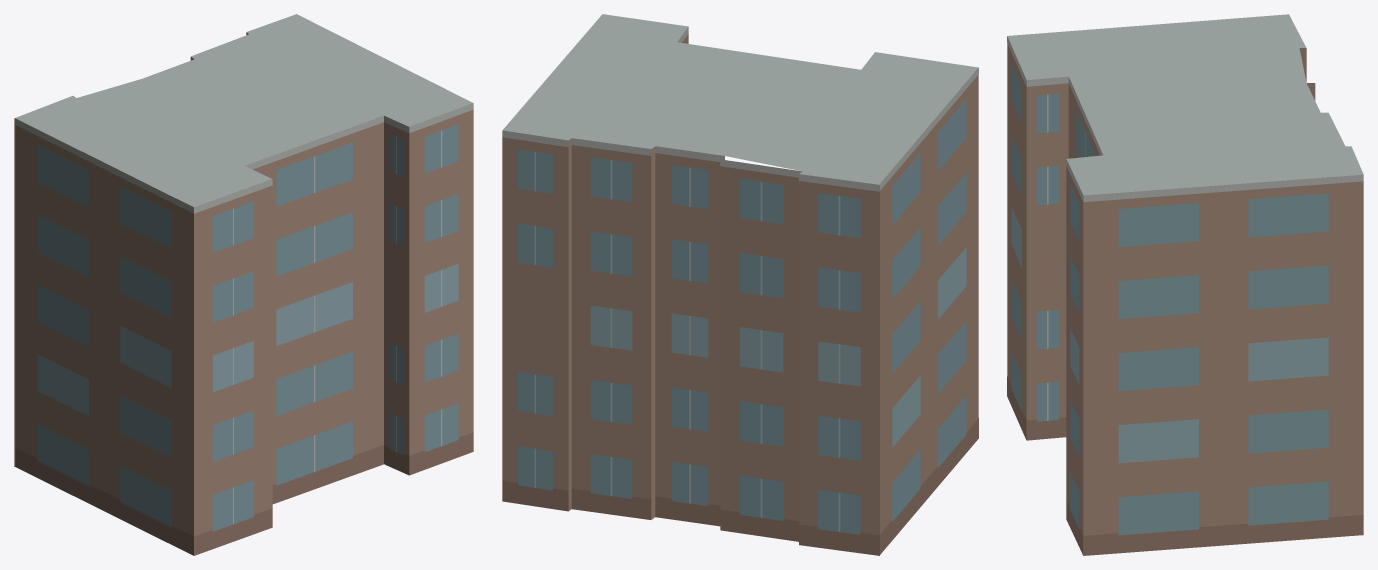
Rendered from survey-upis-32909595.glb.
3 renders of one model, left to right at view 1: azimuth 30°, elevation 25°; view 2: azimuth 150°, elevation 25°; view 3: azimuth 270°, elevation 25°, orthographic. The views are drawn at different scales.
Visible parts, largest first — view 1: survey-upis-32909595.tmp; view 2: survey-upis-32909595.tmp; view 3: survey-upis-32909595.tmp.
Boxes of the visible parts, x1,y1,x2,y2 form: survey-upis-32909595.tmp: [14, 14, 473, 555]; survey-upis-32909595.tmp: [502, 14, 978, 555]; survey-upis-32909595.tmp: [1007, 14, 1363, 555].
Bounding box in the file's own units: 14.28 × 13.2 × 11.85.
